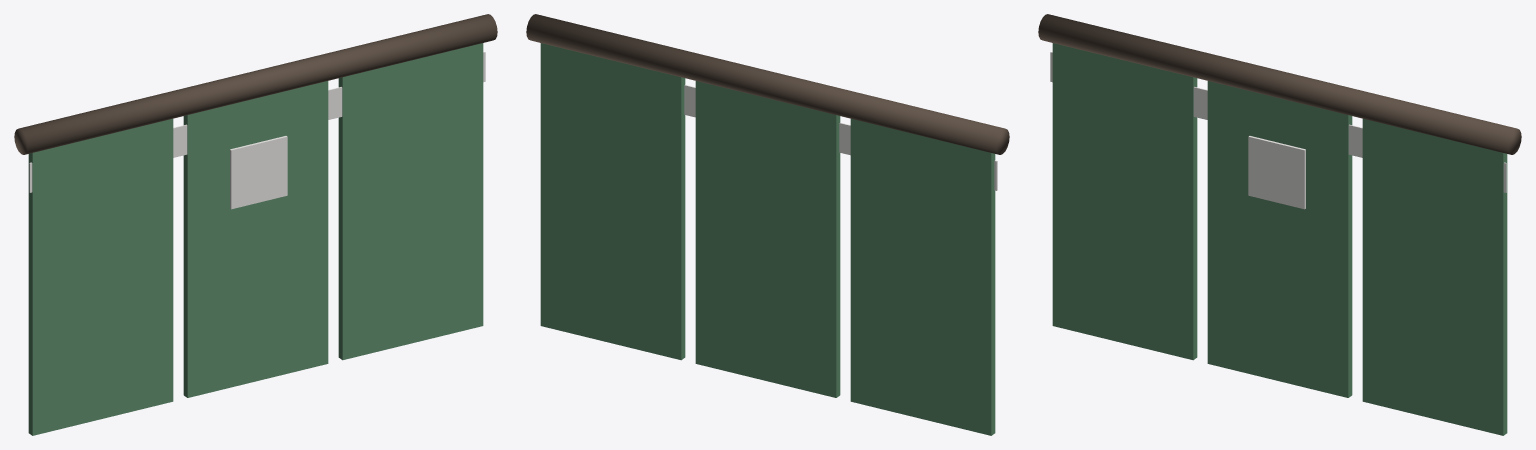
The model's file is prop_noren_midori.glb.
3 renders of one model, left to right at view 1: azimuth 30°, elevation 25°; view 2: azimuth 150°, elevation 25°; view 3: azimuth 330°, elevation 25°, orthographic.
Visible parts, largest first — view 1: noren_midori; view 2: noren_midori; view 3: noren_midori.
Boxes of the visible parts, <box> form: noren_midori: <box>14,14,497,435</box>; noren_midori: <box>526,14,1009,435</box>; noren_midori: <box>1038,14,1521,435</box>.
Size of the model in its own units: 2 by 1.25 by 0.1.
